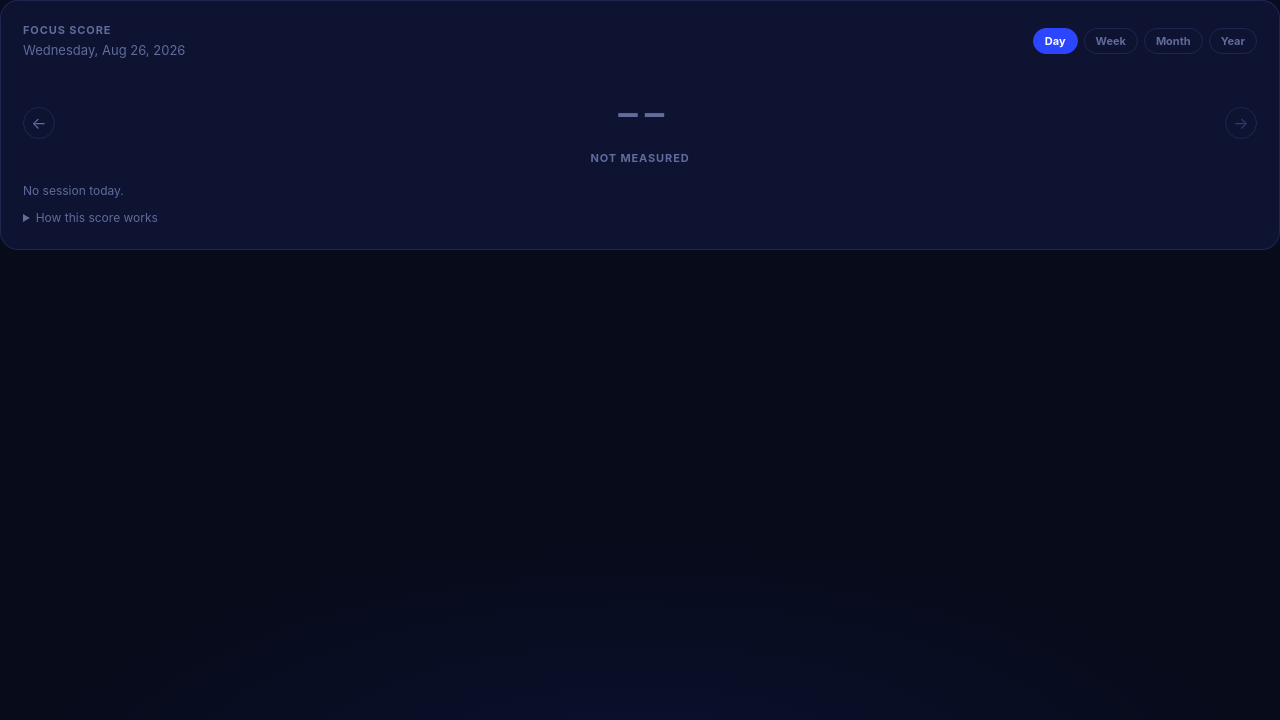
it: LabDashboard metric labels › keeps the analytics historical day fixed across the midnight refresh
Click the button named "Previous day".
click(39, 122)  # box [23,106,55,138]
Wait 30000 ms
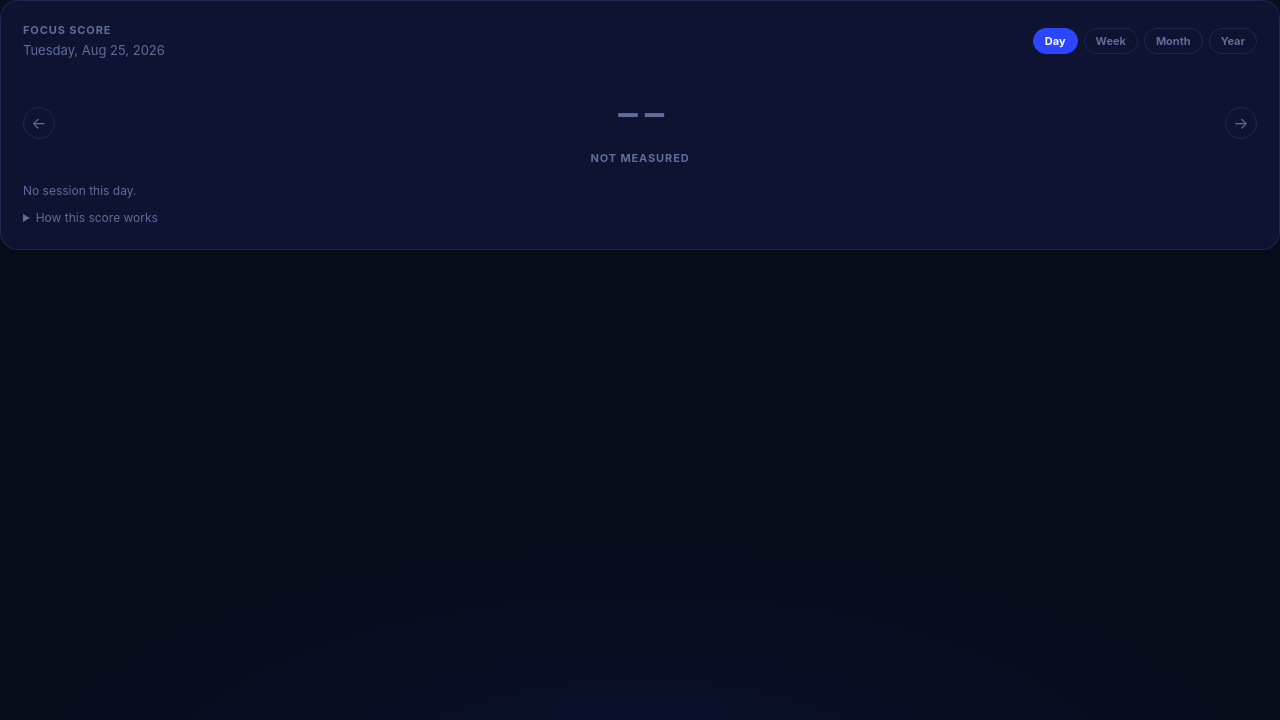
Check: the text "Tuesday, Aug 25, 2026" is shown, box [23,42,165,58]
Click the button named "Next day".
click(1241, 122)  # box [1225,106,1257,138]
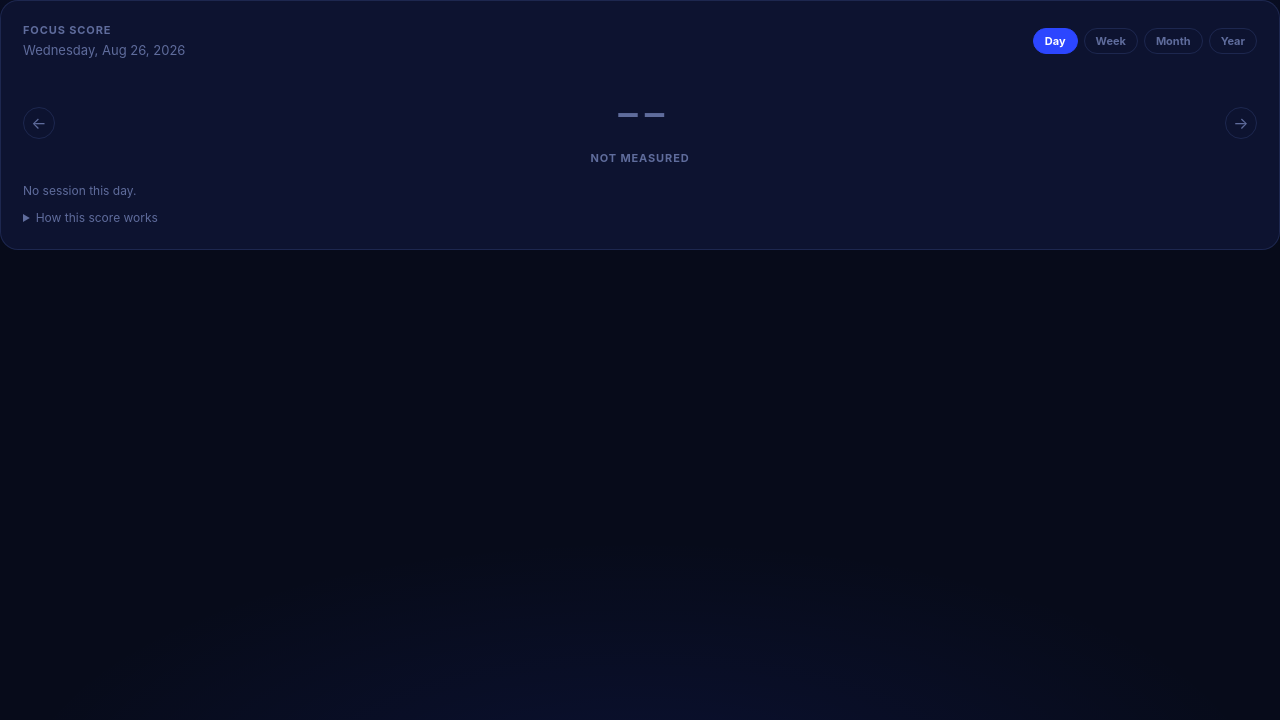
Check: the text "No session this day." is shown, box [23,183,136,198]
Check: the text "Wednesday, Aug 26, 2026" is shown, box [23,42,185,58]
